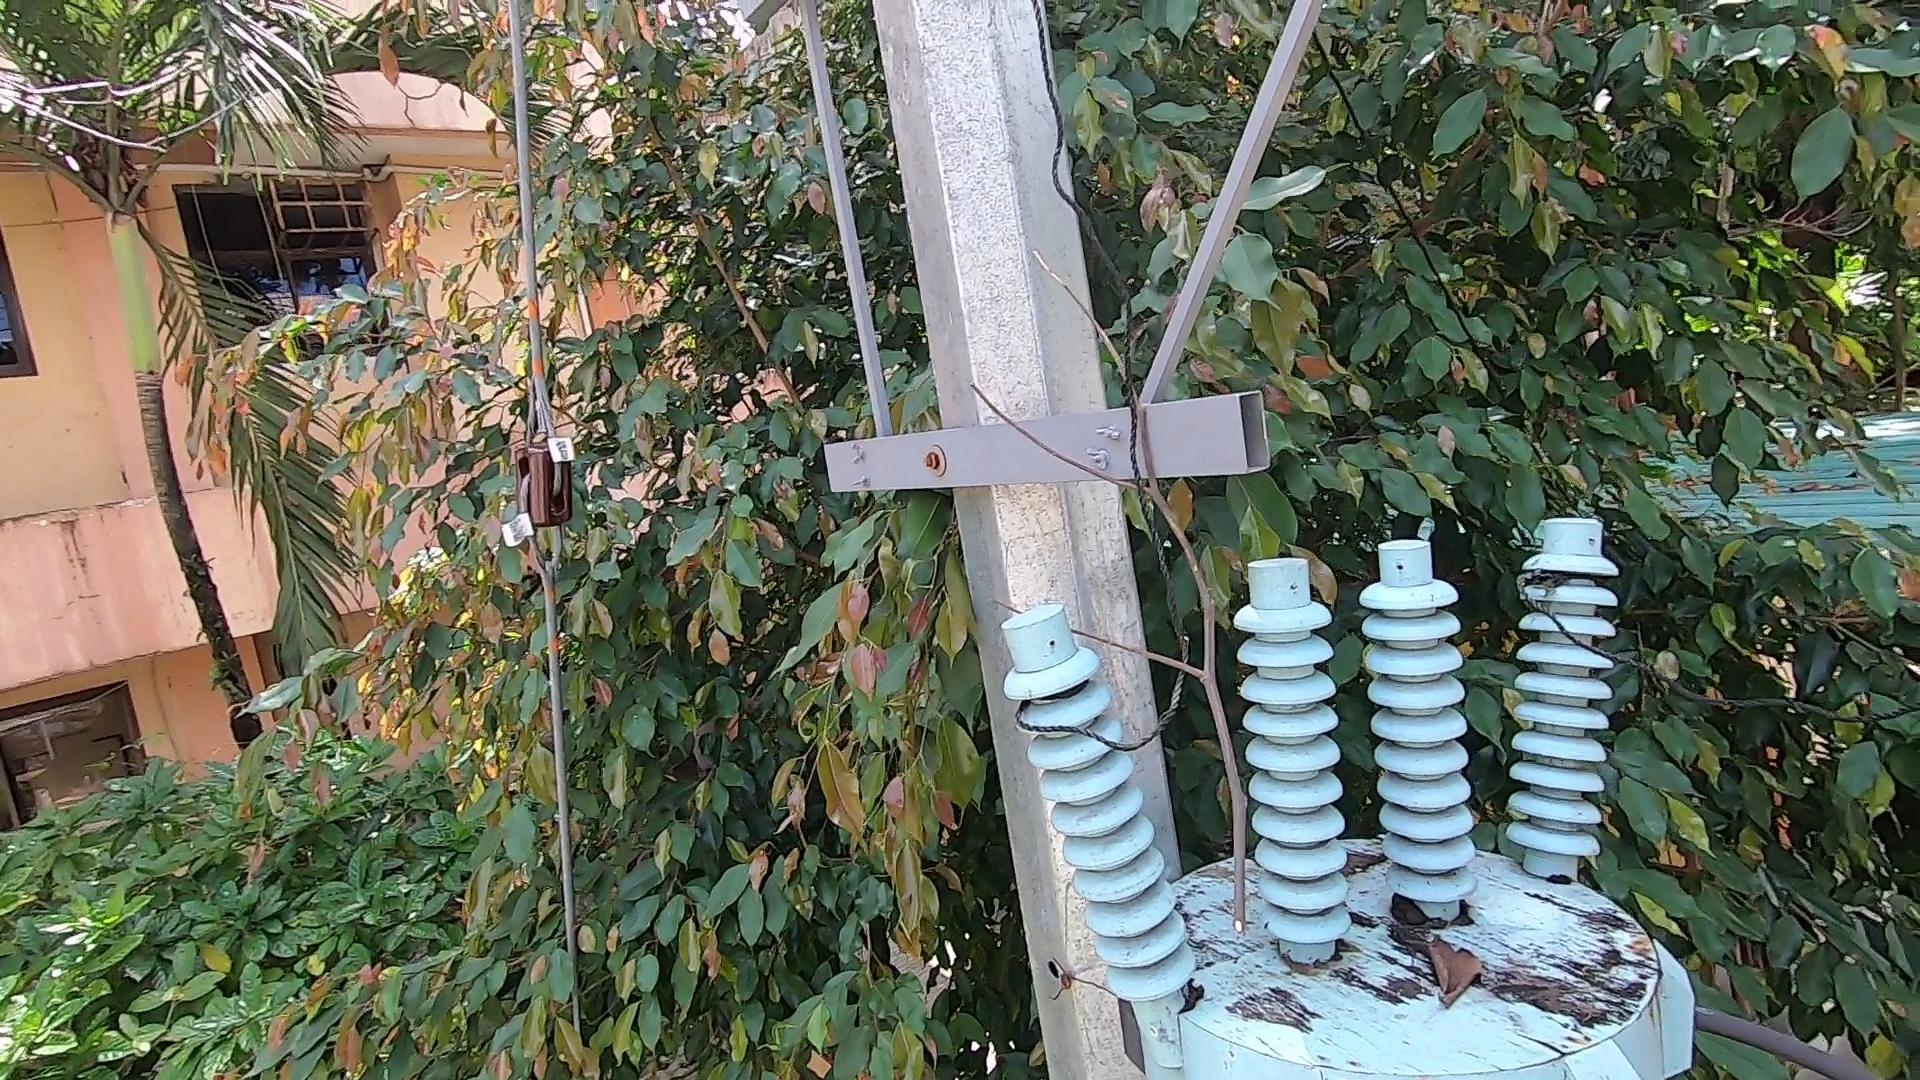leaf: (1420, 932, 1491, 1005), (1385, 889, 1429, 932)
tree branch: (960, 202, 1273, 938)
